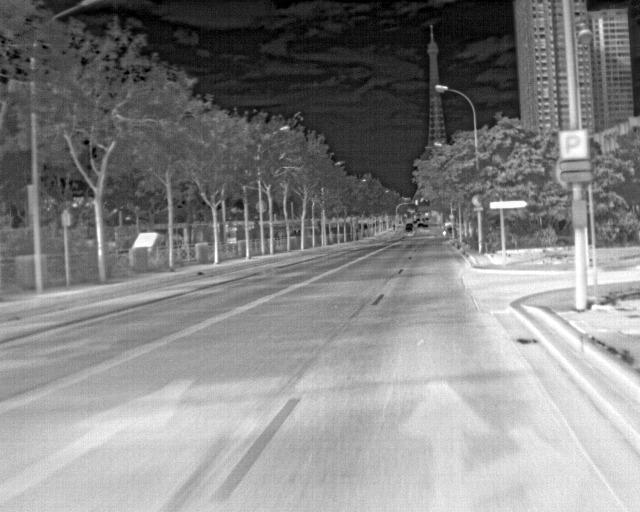car: (446, 228, 457, 236), (404, 227, 414, 235), (405, 223, 414, 229), (422, 225, 428, 231), (417, 223, 423, 229), (413, 221, 417, 225), (416, 219, 420, 222), (425, 218, 429, 221), (422, 219, 425, 222)
light: (415, 200, 418, 205)
sign: (559, 130, 587, 159), (572, 200, 588, 227), (560, 161, 591, 171), (490, 201, 527, 209), (561, 172, 592, 181), (256, 200, 267, 213), (472, 194, 482, 206), (61, 213, 70, 225), (474, 208, 483, 211)
